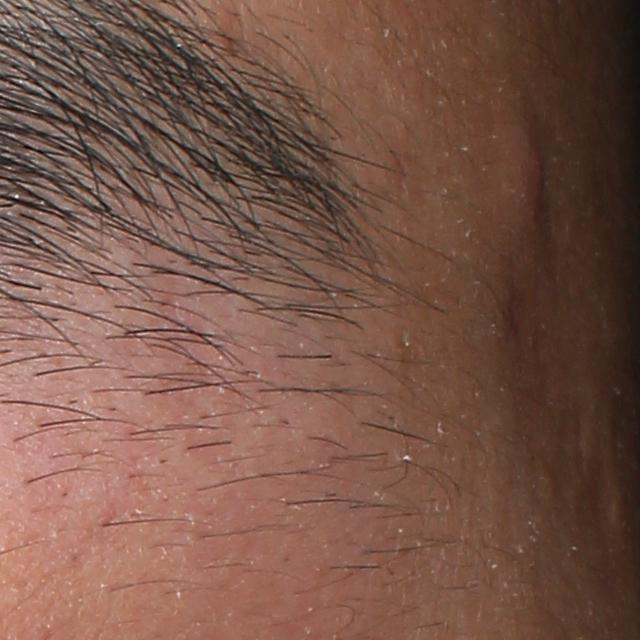papule: (512, 126, 560, 211)
